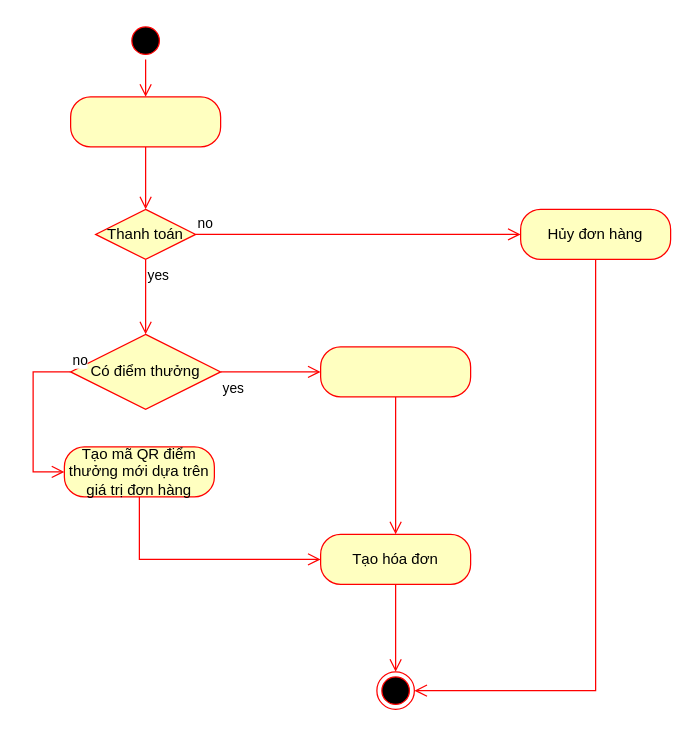
Some shapes in this 693 by 731 pixel diagram are drawn without their labels. The centre of each missing label's shape, as x and y in pixels:
"giảm giá đơn hàng và trừ điểm thưởng" belongs at pixel 395 371.
"Mua hàng" belongs at pixel 145 121.
